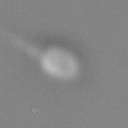normal: (1, 33, 46, 58)
